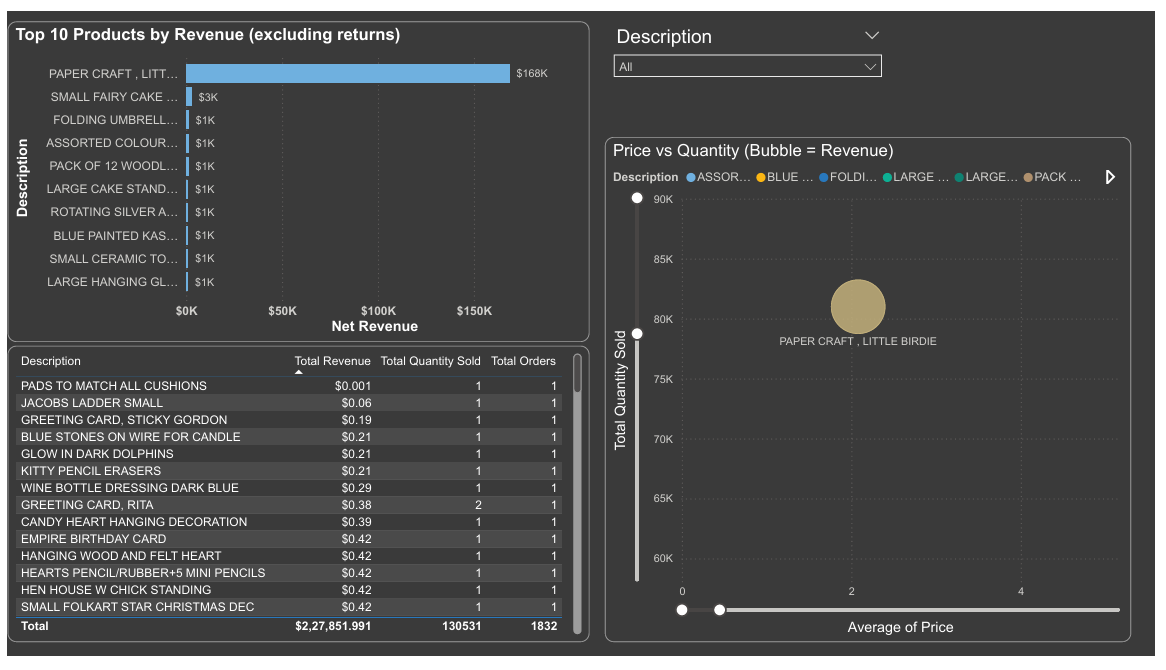

What the dashboard file says about the page in this screenshot:
{"tool":"powerbi","page":{"name":"PRODUCT","canvas":[1280,720],"ordinal":1},"visuals":[{"type":"clusteredBarChart","title":"Top 10 Products by Revenue (excluding returns)","fields":{"Category":["DimProduct.Description"],"Y":["Sales.Net Revenue"]},"box":[0,11.2,649.5,358.2],"z":0},{"type":"scatterChart","title":"Price vs Quantity (Bubble = Revenue)","fields":{"Y":["Sales.Total Quantity Sold"],"Size":["Sales.Total Revenue"],"X":["Sales.Price"],"Series":["DimProduct.Description"]},"box":[665.6,140.1,587.5,564],"z":1000},{"type":"tableEx","fields":{"Values":["DimProduct.Description","Sales.Total Revenue","Sales.Total Quantity Sold","Sales.Total Orders"]},"box":[0,373.1,649.5,330.9],"z":2000},{"type":"slicer","fields":{"Values":["DimProduct.Description"]},"box":[665.6,11.2,319.8,100.4],"z":3000}]}

Visuals, with their boxes in screenshot pixels (x1, y1, x2, y2), scaled from the page's 1280x720 canvas onto the 1166x670 screenshot:
"Top 10 Products by Revenue (excluding returns)" clusteredBarChart: [left=0, top=10, right=592, bottom=344]
"Price vs Quantity (Bubble = Revenue)" scatterChart: [left=606, top=130, right=1141, bottom=655]
tableEx - DimProduct.Description x Sales.Total Revenue: [left=0, top=347, right=592, bottom=655]
slicer - DimProduct.Description: [left=606, top=10, right=898, bottom=104]
